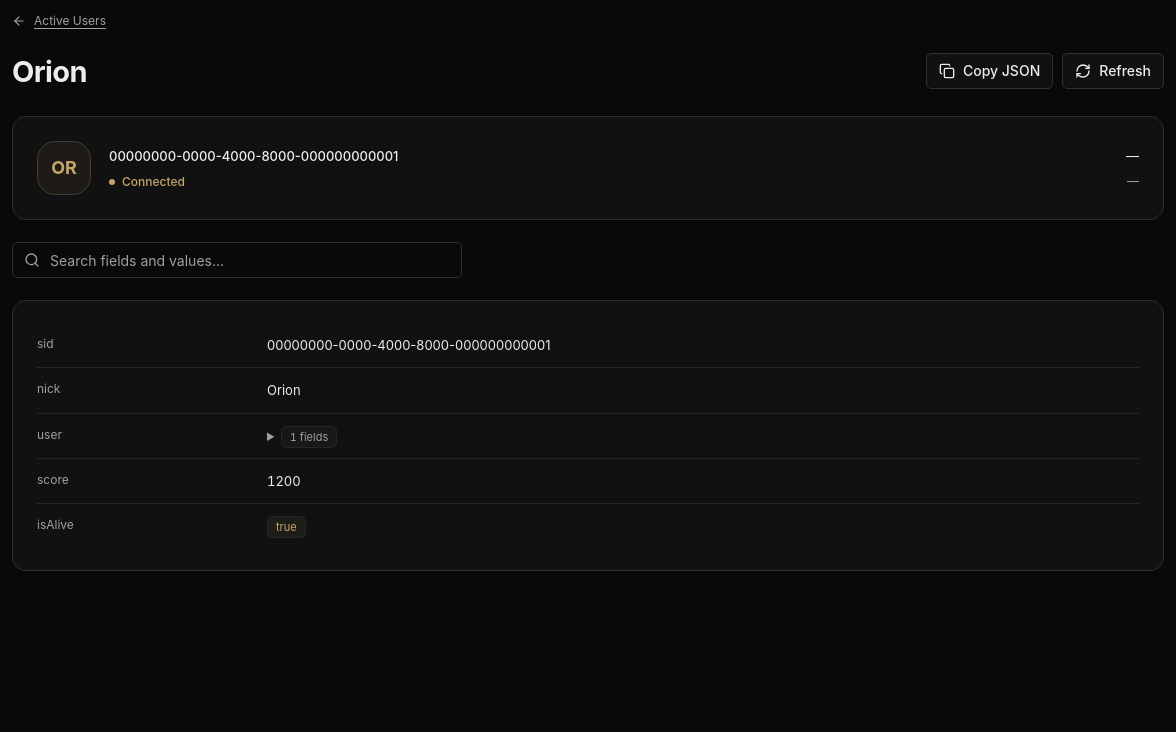
Test: user directories › finds a fully qualified nested path in user details
The image size is (1176, 732).
Step 1. Type "user.sigma.season.level" into the field named "Search user data" → (237,260), box [12,242,462,278]
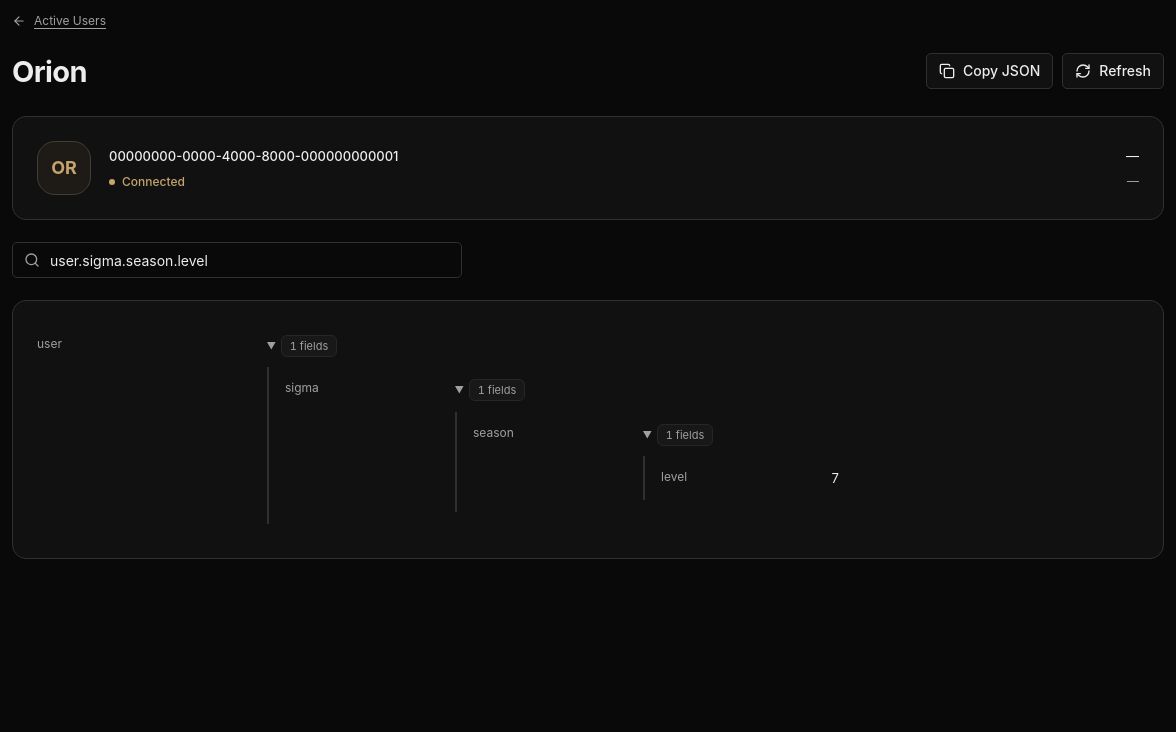
expect the text "level" is shown: met, box [661,469,687,484]
expect the text "7" is shown: met, box [831,470,839,486]
